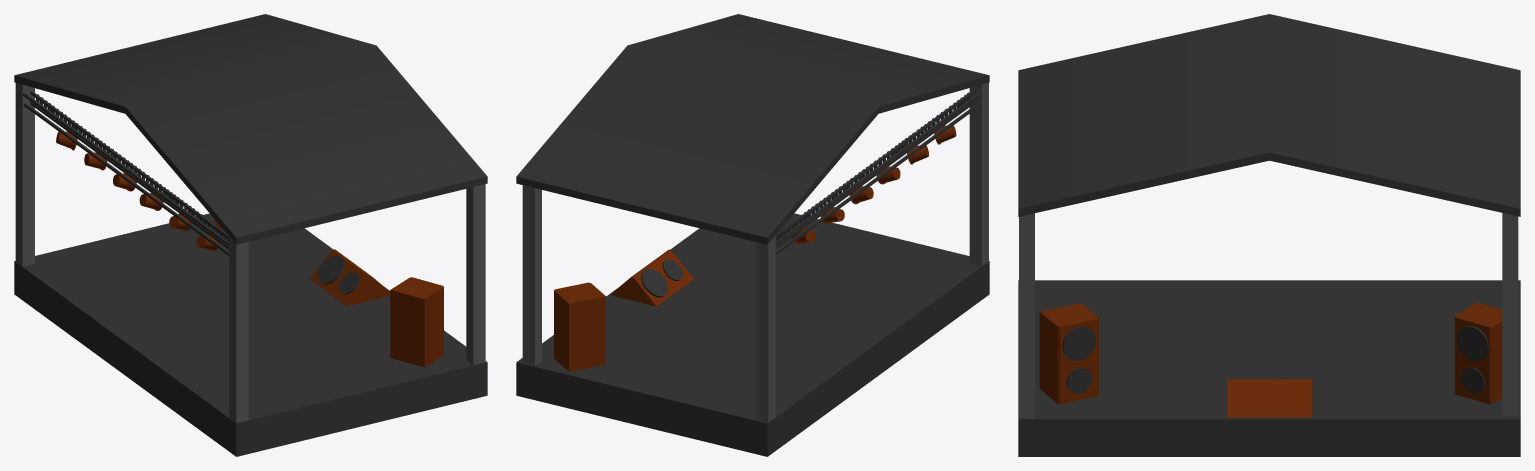
File: stageNew.fbx
3 views of the same model, side by side, from view 1: azimuth 30°, elevation 25°; view 2: azimuth 150°, elevation 25°; view 3: azimuth 270°, elevation 25° (orthographic). The views are drawn at different scales.
Visible parts, largest first — view 1: pCube1, pCube5, pCube66, pCubeShape10, pCube6, pCube9, pCube7, pCubeShape4; view 2: pCube1, pCube5, pCubeShape10, pCubeShape3, pCube7, pCube8, pCube6, pCubeShape4; view 3: pCube5, pCube1, pCube66, pCubeShape3, pCube8, pCubeShape4, pCube9.
Boxes of the visible parts, box(x1,y1,x2,y2) form: pCube1: box(14, 213, 487, 456); pCube5: box(14, 14, 487, 244); pCube66: box(390, 277, 443, 367); pCubeShape10: box(23, 91, 229, 255); pCube6: box(229, 237, 248, 423); pCube9: box(466, 184, 485, 365); pCube7: box(15, 83, 34, 266); pCubeShape4: box(309, 249, 390, 306); pCube1: box(516, 213, 989, 456); pCube5: box(516, 14, 989, 244); pCubeShape10: box(775, 90, 981, 255); pCubeShape3: box(554, 282, 605, 371); pCube7: box(756, 236, 775, 422); pCube8: box(522, 185, 541, 365); pCube6: box(969, 82, 988, 266); pCubeShape4: box(610, 249, 693, 306); pCube5: box(1018, 14, 1520, 216); pCube1: box(1018, 280, 1520, 456); pCube66: box(1039, 303, 1098, 403); pCubeShape3: box(1454, 302, 1502, 404); pCube8: box(1502, 213, 1518, 416); pCubeShape4: box(1227, 377, 1312, 417); pCube9: box(1019, 213, 1034, 418).
Size of the model in its own units: 7.94 by 8.05 by 12.04.
